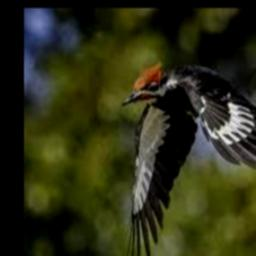Woodpecker: (122, 60, 256, 256)
